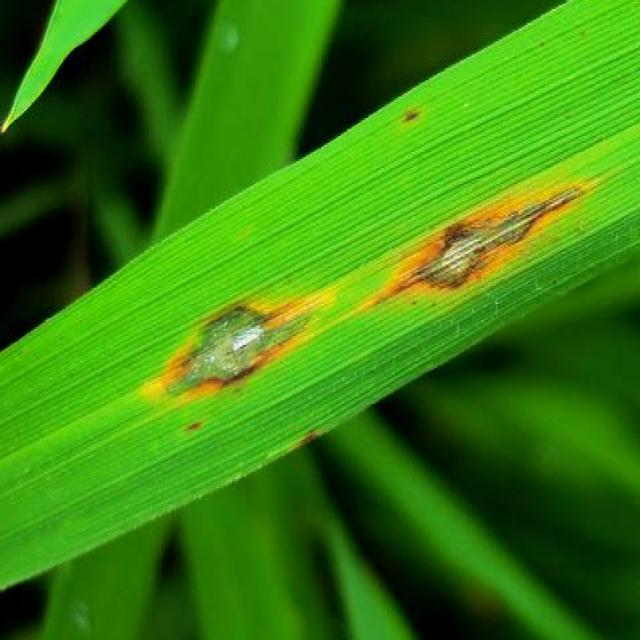Leaf_Blast: (393, 168, 601, 295), (156, 277, 327, 370)
